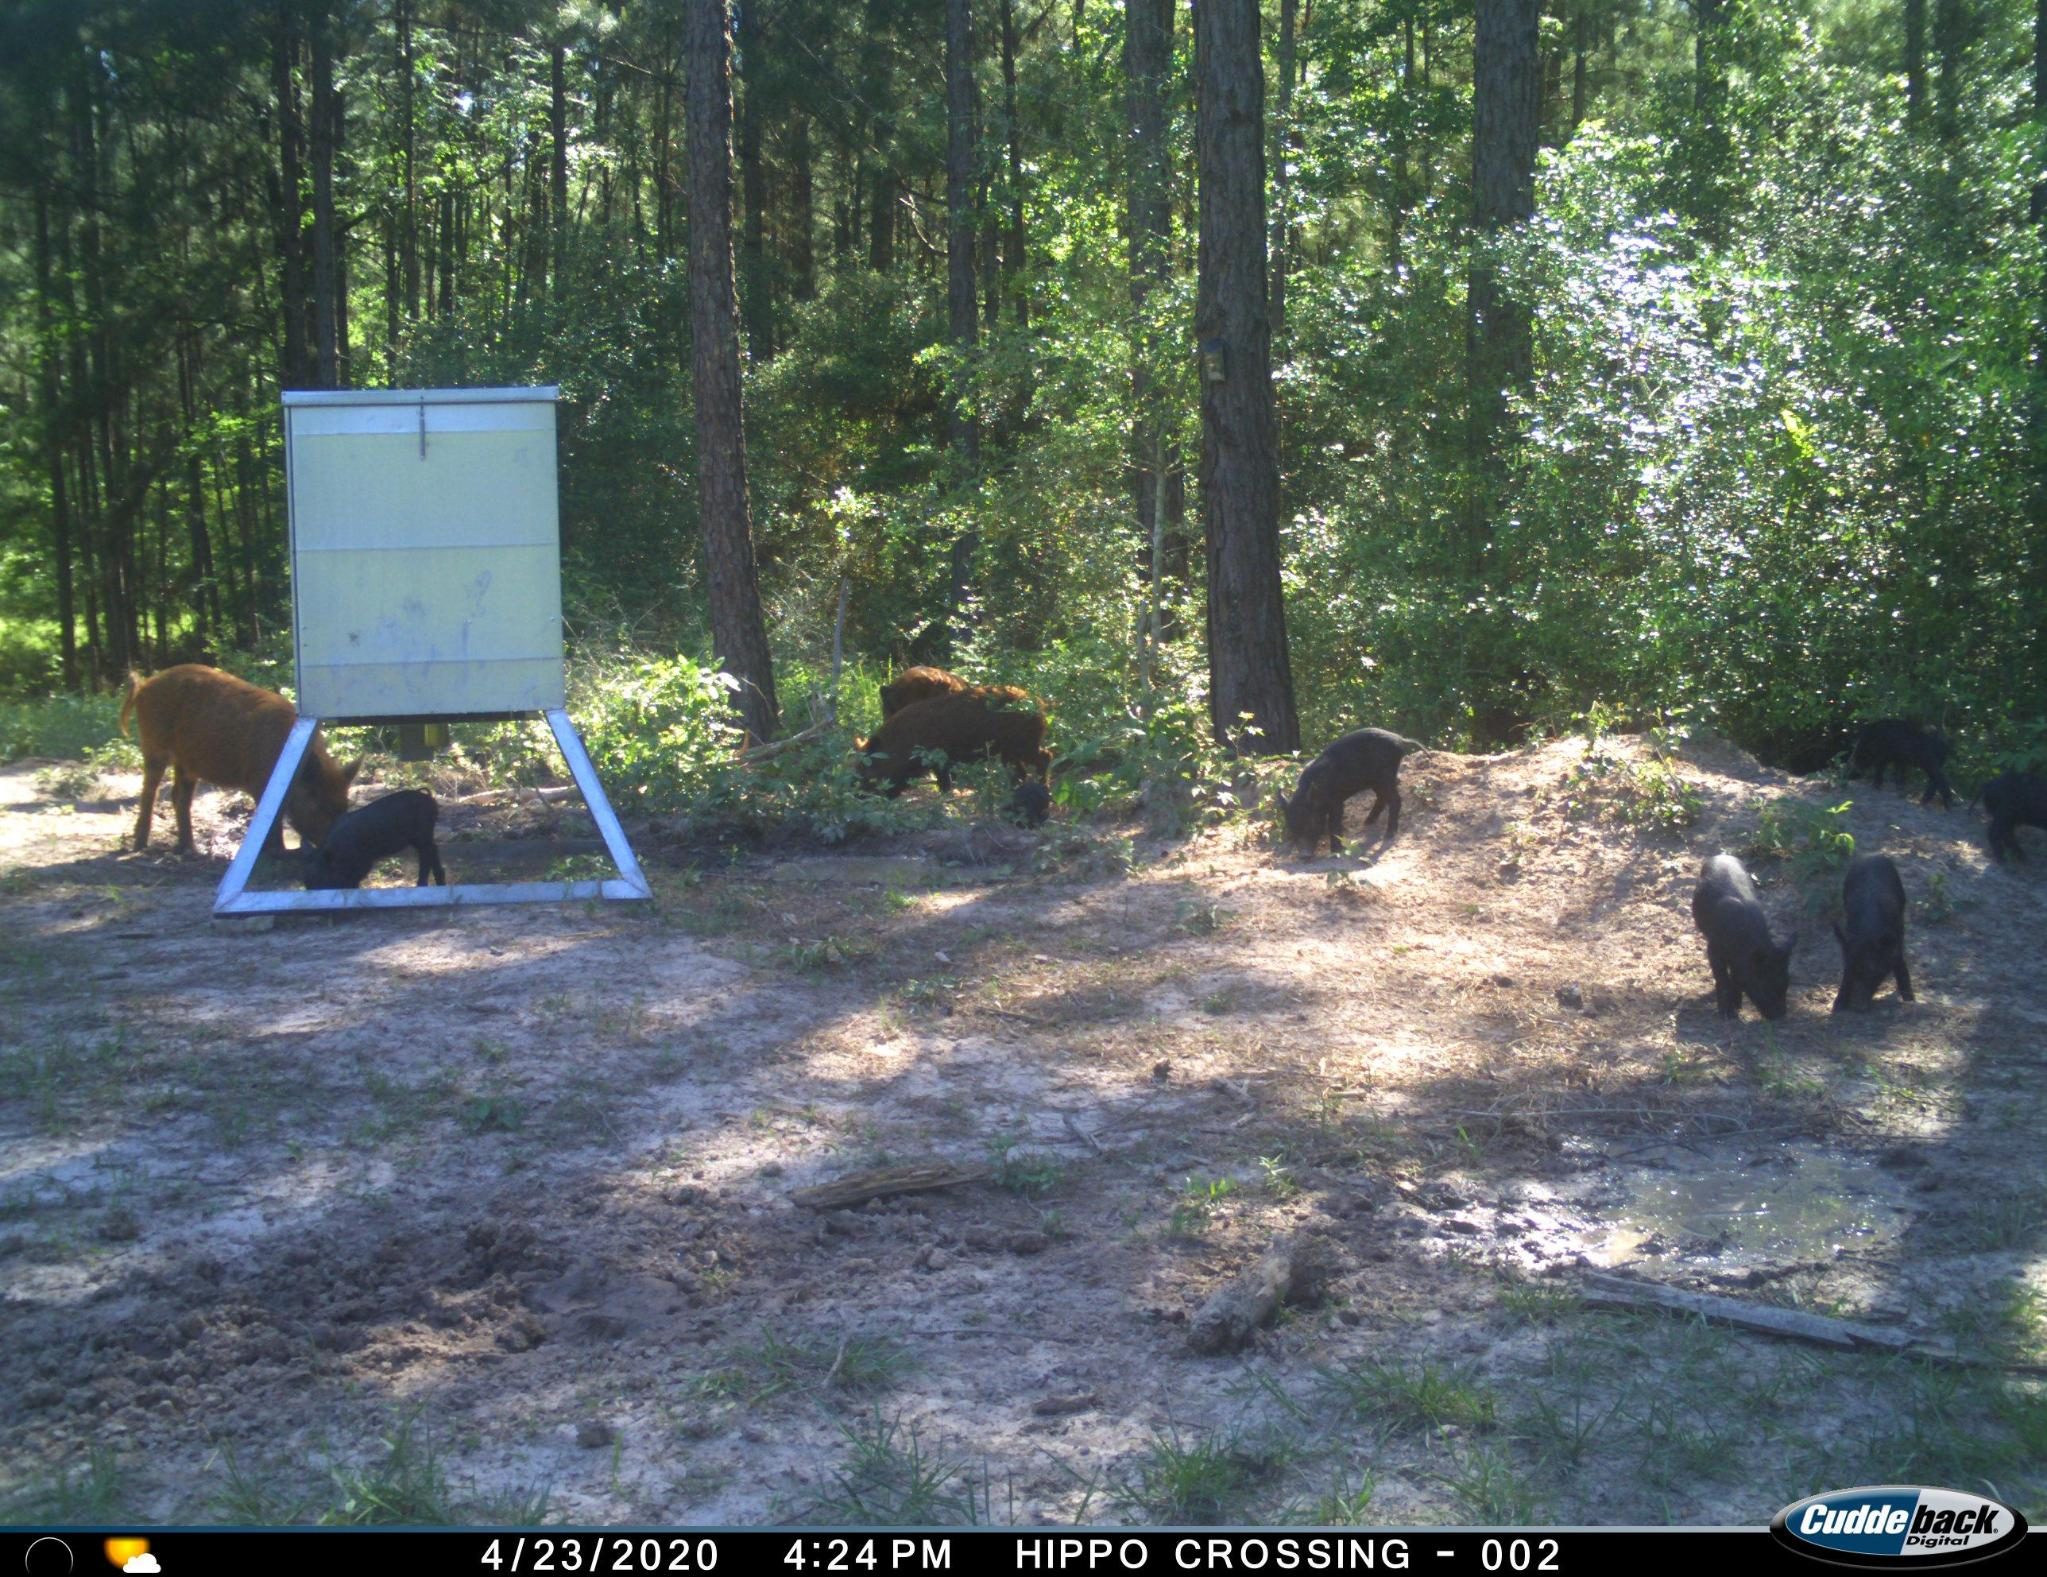Hog: (108, 648, 363, 858), (843, 678, 1065, 813), (1674, 850, 1812, 1035), (1817, 845, 1926, 1042), (1265, 721, 1424, 853), (300, 784, 455, 891), (1842, 707, 1964, 812), (1979, 757, 2047, 881)
